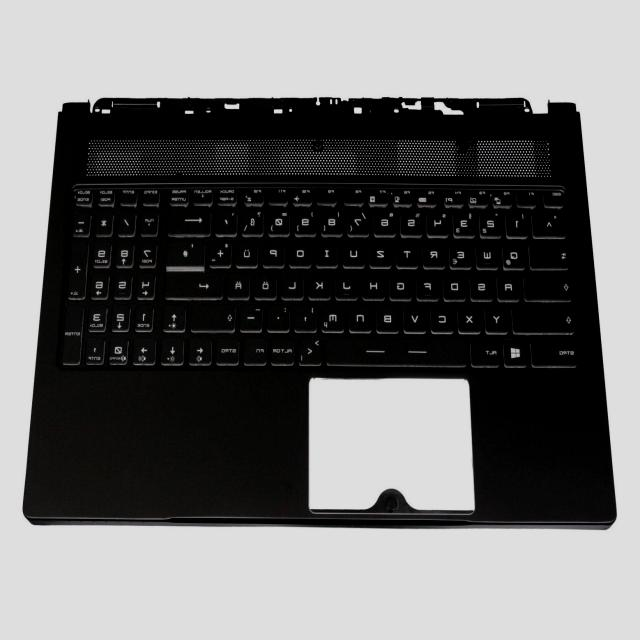0: (269, 207, 292, 234)
1: (507, 207, 531, 236)
2: (480, 207, 504, 236)
3: (454, 207, 478, 237)
4: (427, 207, 451, 235)
5: (401, 206, 425, 235)
6: (374, 206, 398, 236)
7: (348, 207, 372, 235)
8: (322, 207, 345, 235)
9: (295, 205, 319, 235)
a: (498, 270, 522, 300)
accent: (217, 206, 239, 234)
ae: (229, 268, 253, 298)
alt-left: (471, 334, 502, 366)
altgr-right: (270, 333, 296, 365)
b: (377, 301, 402, 331)
c: (431, 302, 456, 332)
caret: (533, 208, 569, 236)
comma: (295, 302, 319, 331)
d: (444, 269, 468, 300)
del: (169, 204, 214, 234)
e: (450, 238, 474, 268)
enter: (166, 267, 226, 297)
f: (417, 269, 441, 299)
g: (390, 269, 414, 299)
h: (364, 269, 388, 299)
hash: (167, 236, 207, 266)
i: (317, 235, 341, 265)
j: (336, 269, 360, 299)
k: (309, 267, 333, 298)
keyboard: (53, 175, 586, 377)
l: (283, 268, 307, 298)
less: (299, 335, 324, 365)
m: (322, 301, 347, 331)
minus: (241, 302, 265, 331)
n: (350, 301, 374, 331)
o: (290, 237, 314, 266)
oe: (255, 268, 279, 298)
p: (264, 236, 288, 265)
plus: (210, 237, 234, 265)
point: (268, 302, 292, 330)
q: (503, 238, 529, 269)
r: (424, 237, 448, 267)
s: (471, 270, 495, 300)
shift-left: (512, 299, 576, 333)
shift-lock: (525, 269, 574, 299)
shift-right: (191, 298, 238, 330)
space: (325, 333, 469, 366)
ss: (243, 206, 266, 234)
strg-left: (530, 333, 582, 367)
strg-right: (215, 334, 241, 364)
t: (397, 236, 421, 267)
tab: (530, 237, 572, 268)
u: (343, 236, 367, 267)
ue: (237, 236, 261, 266)
v: (404, 302, 428, 332)
w: (477, 237, 501, 268)
x: (458, 302, 483, 332)
y: (486, 303, 510, 333)
z: (370, 236, 394, 267)
